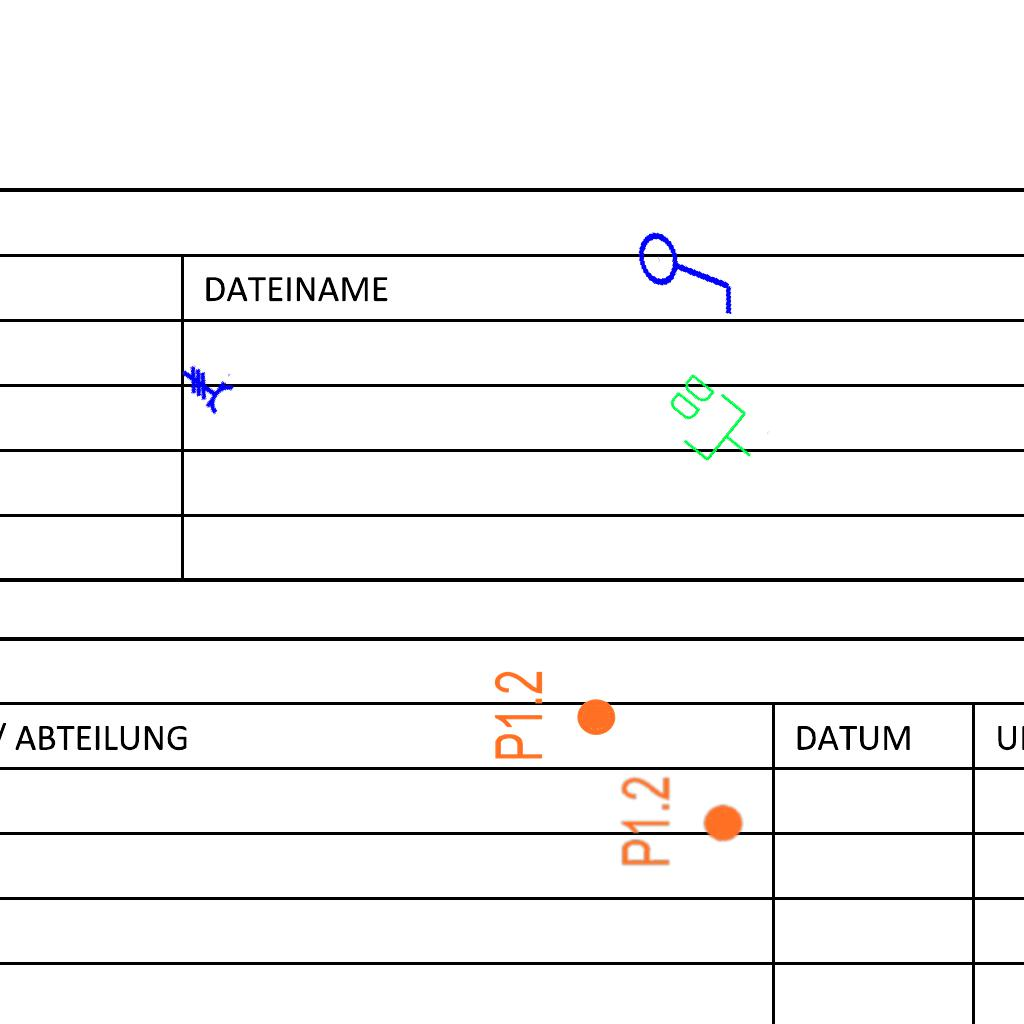Ausschalter: (627, 204, 749, 336)
CEE_Drehstrom_Steckdose_16_32_A: (172, 349, 241, 417)
Datenanschluss_zweifach: (650, 365, 775, 484)
Downlight_LED_Einbauleuchten_Flur: (491, 669, 619, 762), (618, 775, 746, 868)
